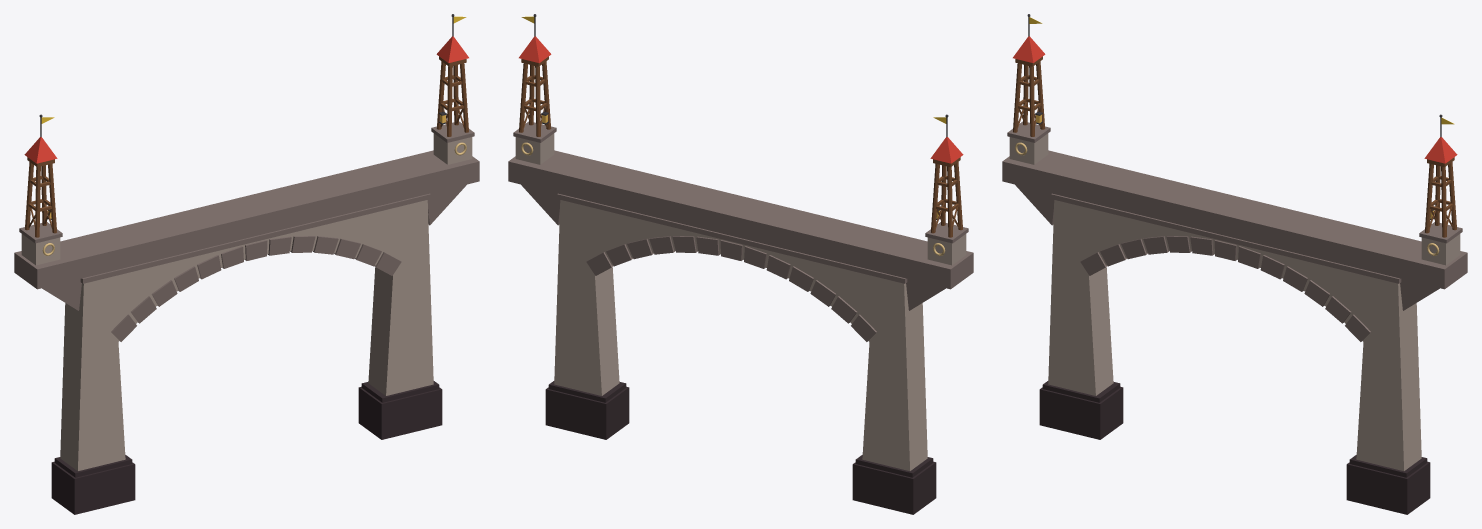
The model's file is SkatePylon.obj.
3 views of the same model, side by side, from view 1: azimuth 30°, elevation 25°; view 2: azimuth 150°, elevation 25°; view 3: azimuth 330°, elevation 25° (orthographic).
Visible parts, largest first — view 1: Trim, Stone, Soot, Timber, Roof; view 2: Trim, Stone, Soot, Timber, Roof; view 3: Trim, Stone, Soot, Timber, Roof.
Part boxes in pixels (x1=…): Trim: x1=14, y1=121, x2=479, y2=341; Stone: x1=21, y1=133, x2=472, y2=470; Soot: x1=51, y1=381, x2=442, y2=514; Timber: x1=25, y1=56, x2=468, y2=237; Roof: x1=24, y1=36, x2=468, y2=163; Trim: x1=508, y1=121, x2=973, y2=341; Stone: x1=515, y1=133, x2=966, y2=470; Soot: x1=545, y1=381, x2=936, y2=514; Timber: x1=519, y1=56, x2=962, y2=237; Roof: x1=519, y1=36, x2=963, y2=163; Trim: x1=1002, y1=121, x2=1467, y2=341; Stone: x1=1009, y1=133, x2=1460, y2=470; Soot: x1=1039, y1=381, x2=1430, y2=514; Timber: x1=1013, y1=56, x2=1456, y2=237; Roof: x1=1013, y1=36, x2=1457, y2=163.
Size of the model in its own units: 116 by 99.55 by 10.4.
